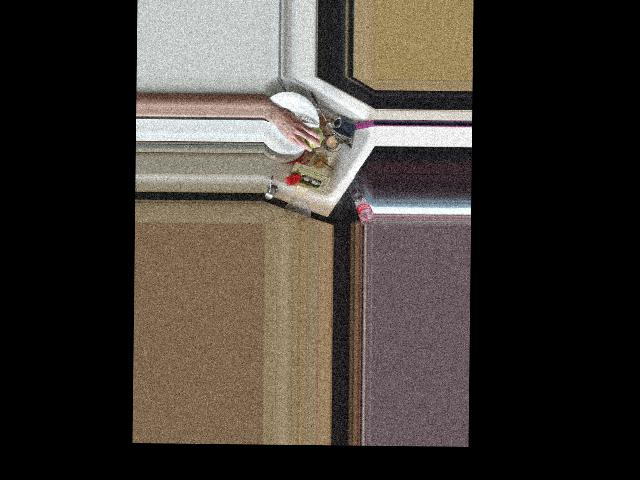apple: (300, 125, 322, 148)
